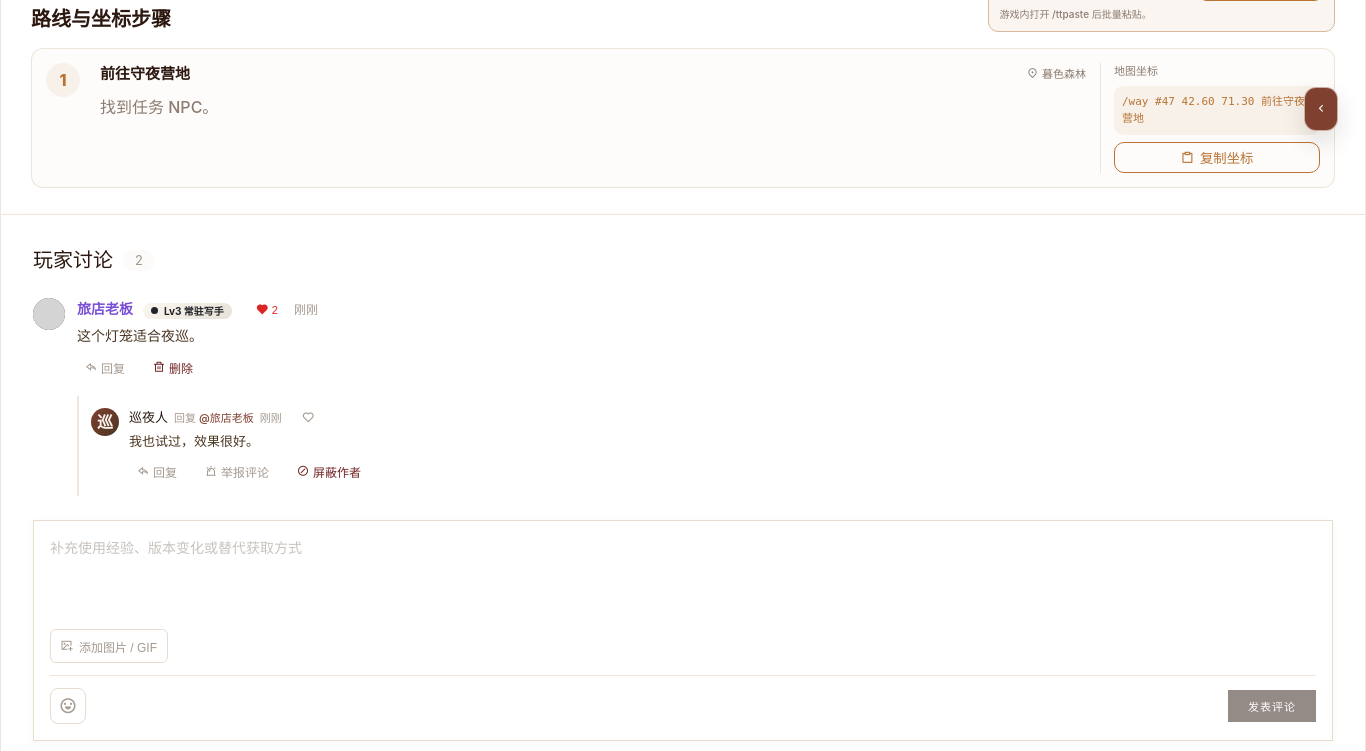
Test: RPDBDetail › reuses the community plaza discussion layout for RPDB comments
This screenshot has width=1366, height=751.
(page scrolled)
Expected: the heading "玩家讨论 2" is shown, [33,249,155,271]
Expected: the text with class "comment-badge" reads "2", [135,252,143,268]
Click the 1st button with class "reply-btn": (105, 368) [77,356,133,380]
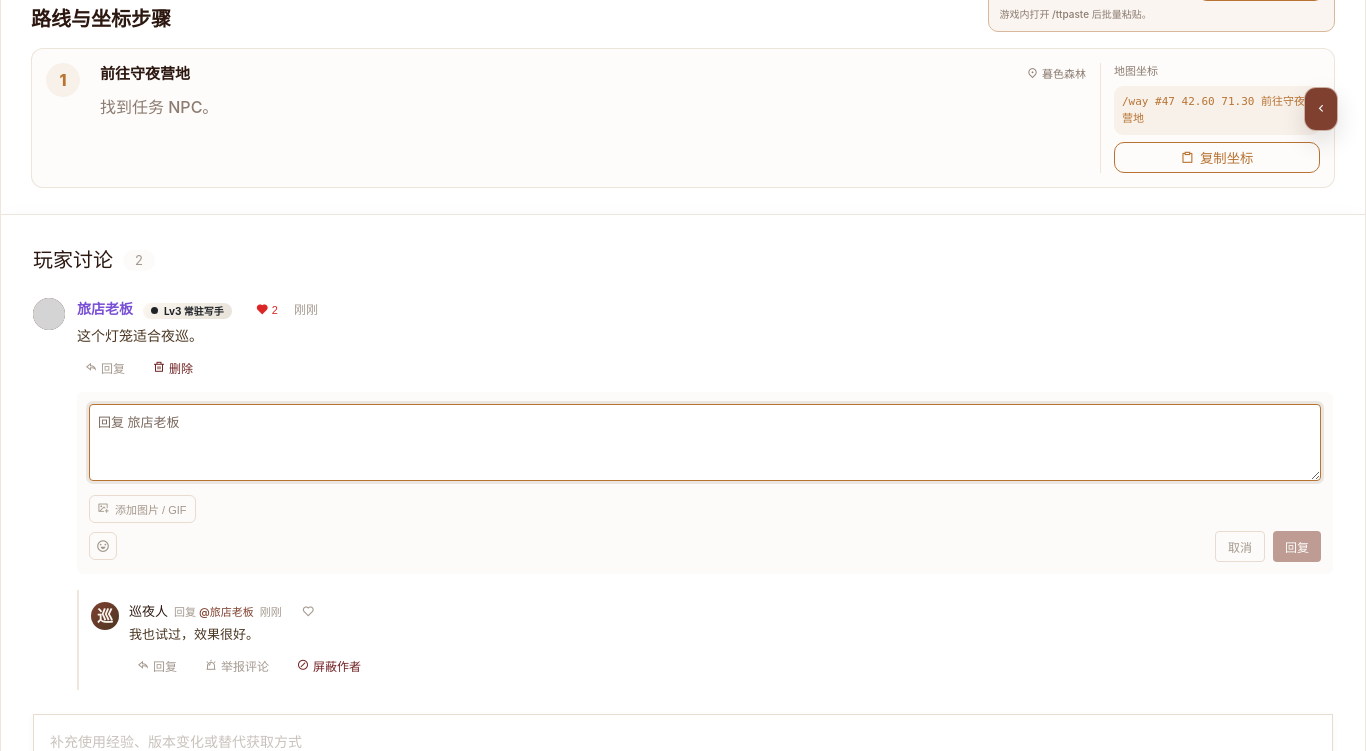
Expected: the element showing "添加图片 / GIF 取消 回复" is shown, [77,392,1333,574]
